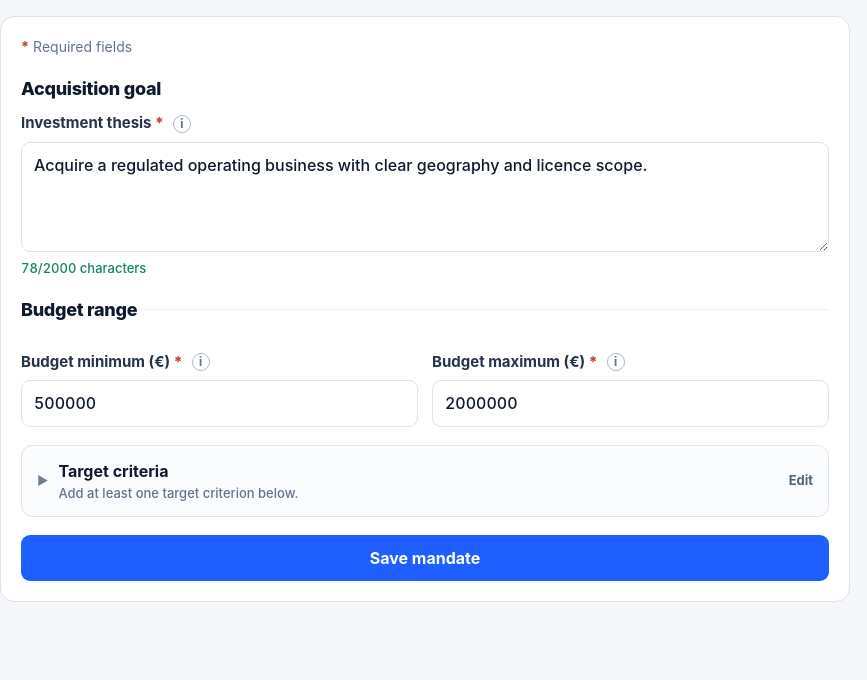
Test: ModerationForm › recovers from a rejected server request and lets the Buyer retry
Replace the text in the text box labelled "Investment thesis" with "Retain this edited mandate through an offline failure and submit it on retry." at (425, 197), box [21,142,829,252]
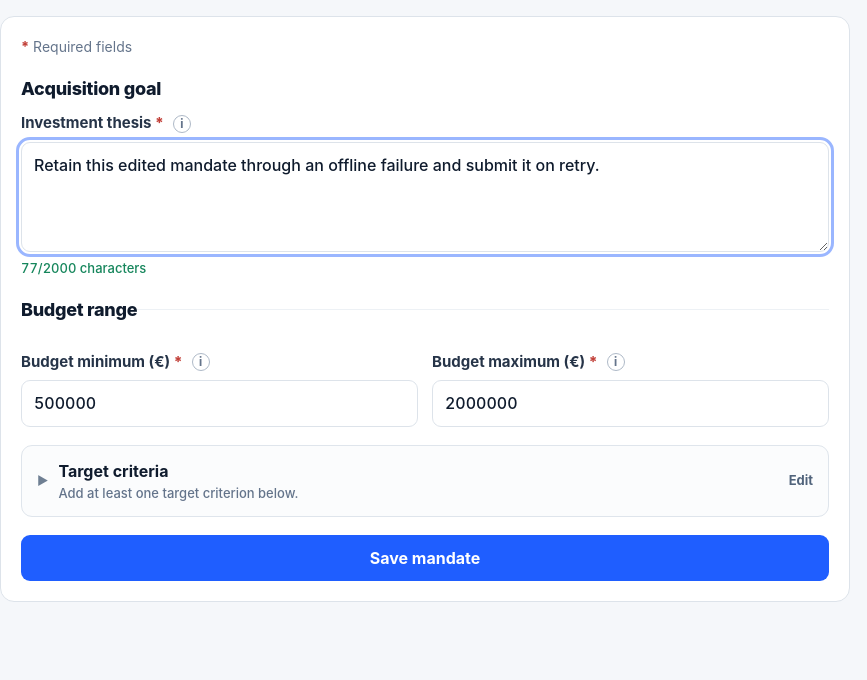
Click the button "Save mandate" at (425, 558), box [21,534,829,580]
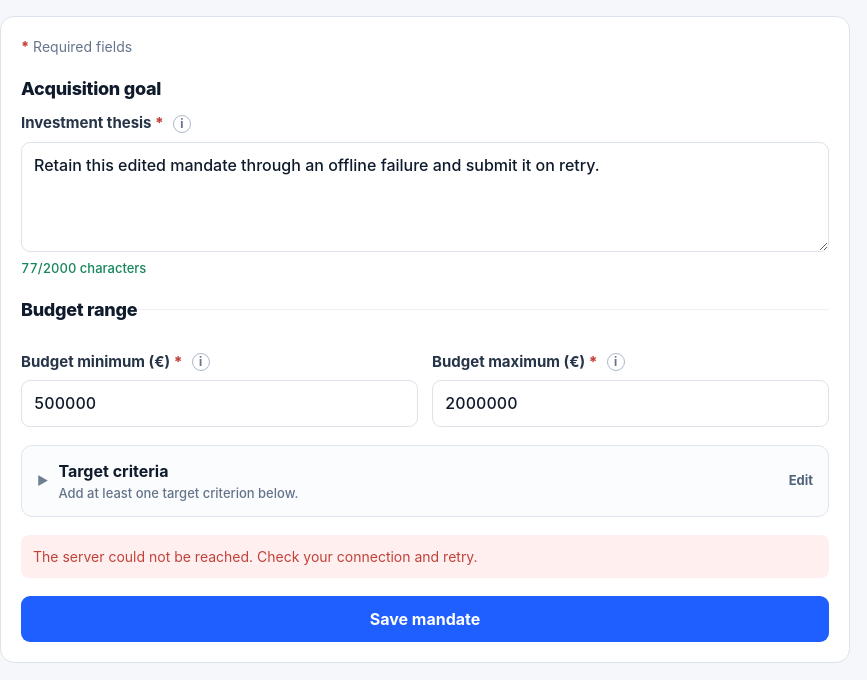
Now the button "Save mandate" is enabled
Now the text "The server could not be reached. Check your connection and retry." is shown, box [21,534,829,578]
Click the button "Save mandate" at (425, 619), box [21,596,829,642]
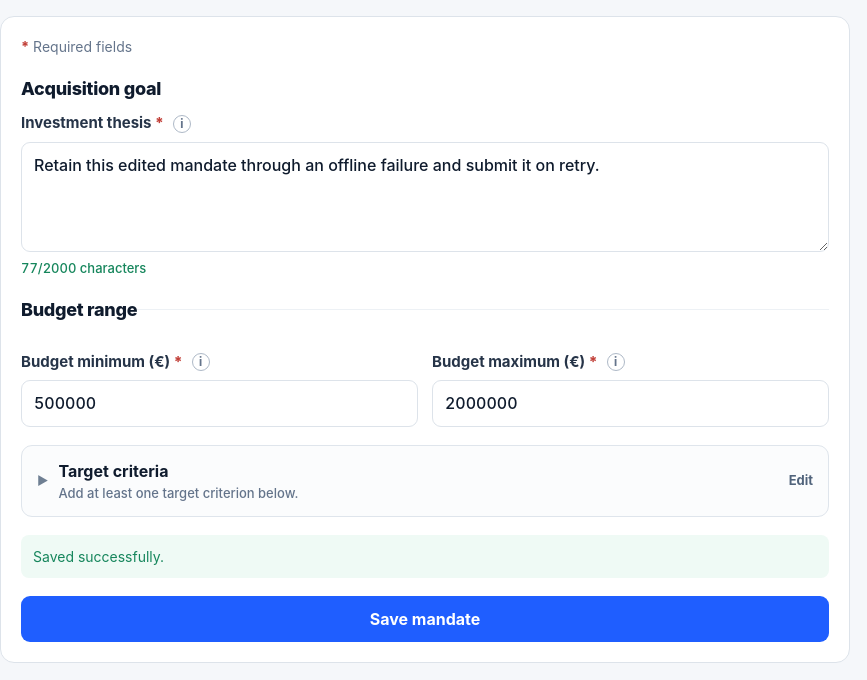
Now the text "Saved successfully." is shown, box [21,534,829,578]
